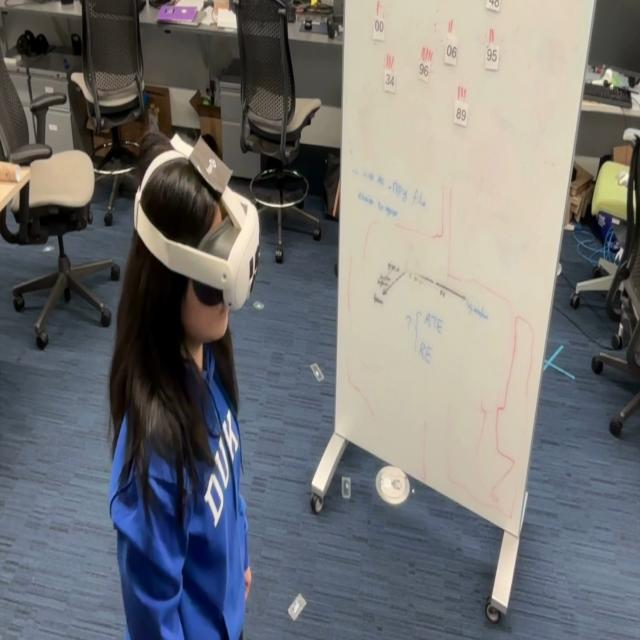Headset: (132, 131, 261, 313)
UnityLogo: (191, 131, 235, 202)
